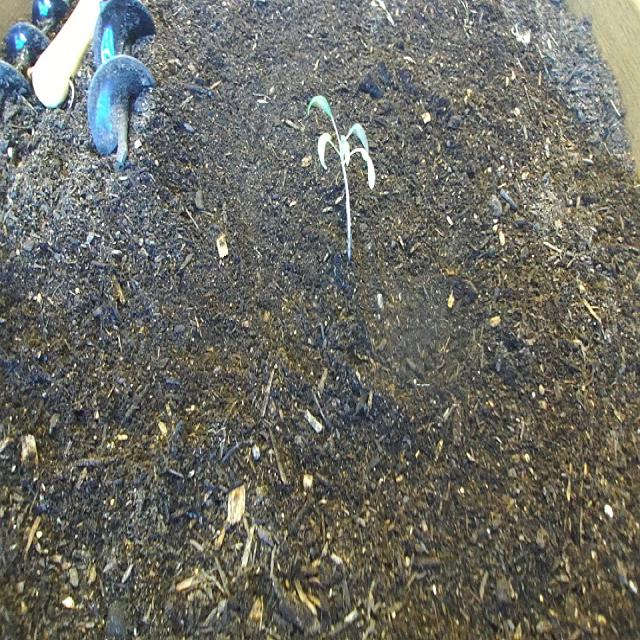Healthy: (303, 71, 379, 270)
